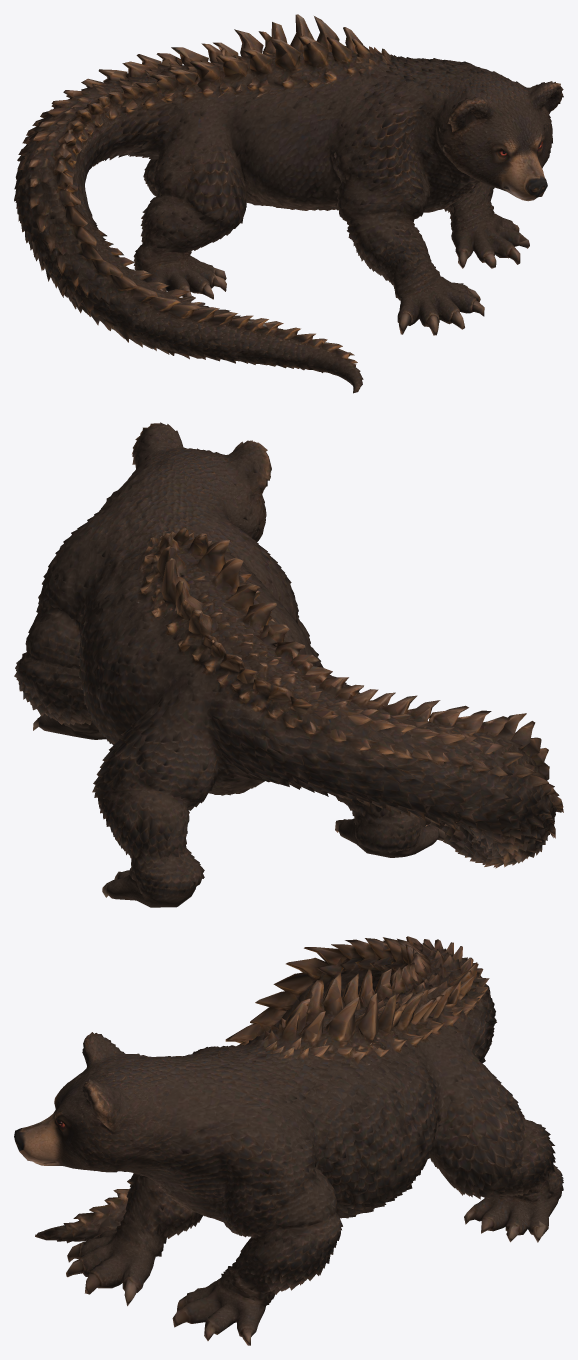
File: trusk-source.glb
The picture shows the model from 3 angles, top to bottom: view 1: azimuth 30°, elevation 25°; view 2: azimuth 150°, elevation 25°; view 3: azimuth 270°, elevation 25°; orthographic projection. The views are drawn at different scales.
Visible parts, largest first — view 1: Mesh_0; view 2: Mesh_0; view 3: Mesh_0.
Part boxes in pixels (left/top/right/bottom): Mesh_0: left=14, top=14, right=563, bottom=393; Mesh_0: left=14, top=422, right=563, bottom=907; Mesh_0: left=14, top=936, right=563, bottom=1345.
Bounding box in the file's own units: 1.9 × 1.03 × 1.73.
Materials: 1 (1 with a texture image).
